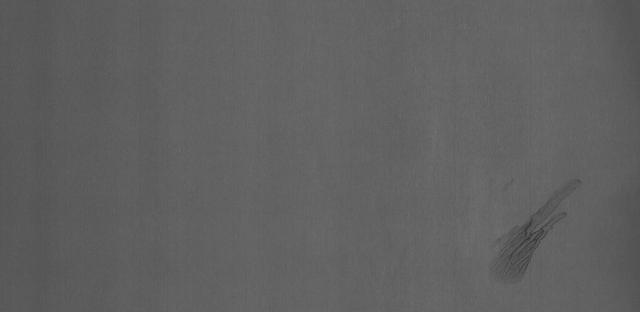water_spot: (485, 172, 590, 290)
